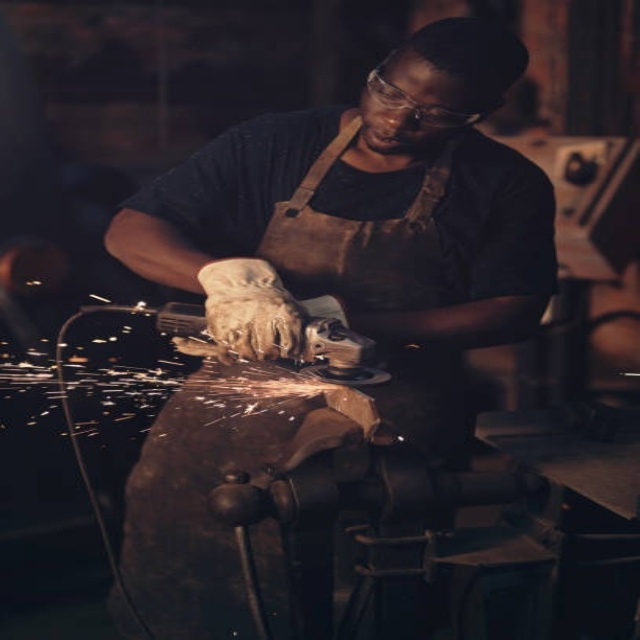Gafas: (369, 62, 495, 128)
Guantes: (197, 257, 310, 362)
Sin_mascara: (365, 127, 414, 158)
